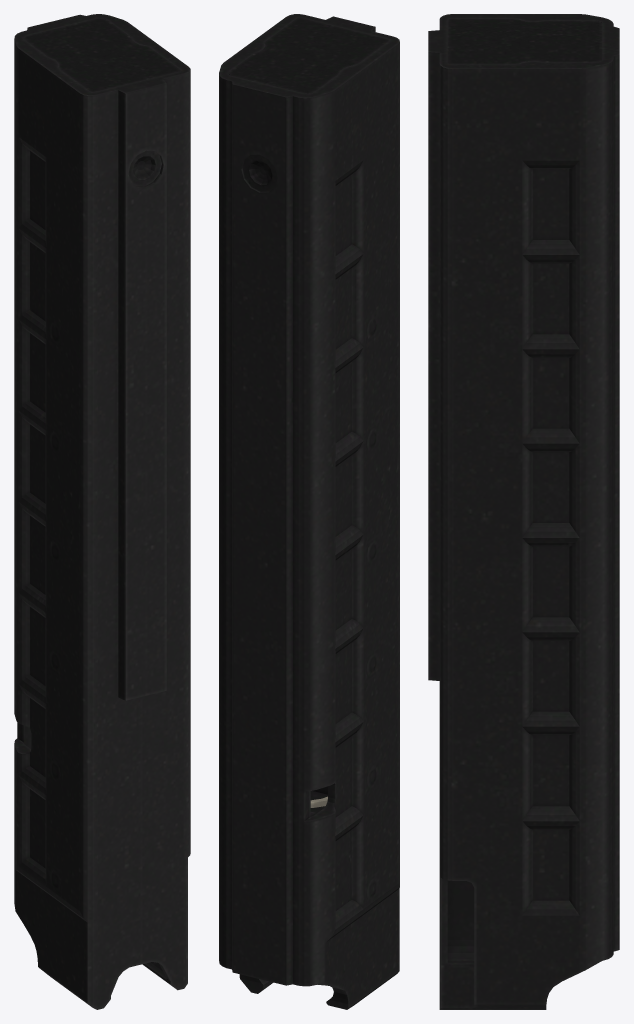
The picture shows the model from 3 angles, left to right: view 1: azimuth 30°, elevation 25°; view 2: azimuth 150°, elevation 25°; view 3: azimuth 270°, elevation 25°; orthographic projection. The views are drawn at different scales.
Parts seen in each view (by area): view 1: TW_5de8eac42a78646d96665d91_PZ_Import; view 2: TW_5de8eac42a78646d96665d91_PZ_Import; view 3: TW_5de8eac42a78646d96665d91_PZ_Import.
Part boxes in pixels (x1,y1,x2,y2): TW_5de8eac42a78646d96665d91_PZ_Import: [14, 14, 190, 1009]; TW_5de8eac42a78646d96665d91_PZ_Import: [219, 14, 399, 1009]; TW_5de8eac42a78646d96665d91_PZ_Import: [428, 14, 619, 1009].
Size of the model in its own units: 0.0145 by 0.0212 by 0.116.
Materials: 1 (1 with a texture image).
